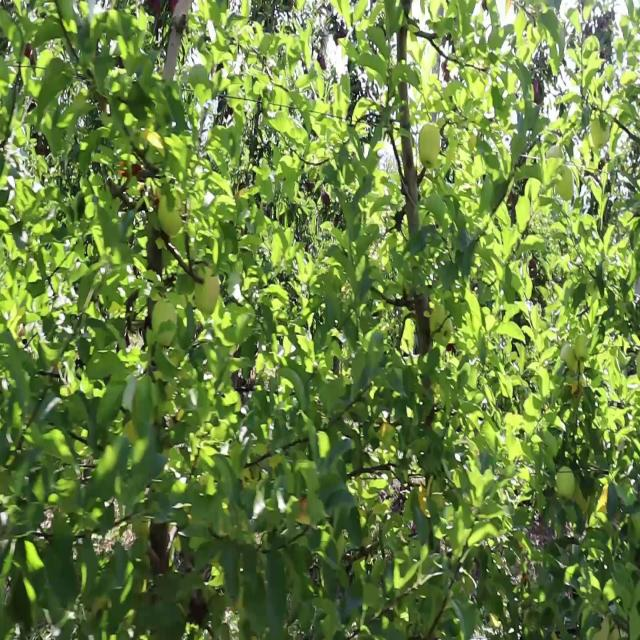apple: (152, 298, 178, 347), (158, 192, 185, 236), (195, 267, 219, 316), (418, 122, 440, 166), (429, 308, 452, 347), (555, 164, 574, 201), (556, 467, 576, 502), (589, 120, 609, 148), (560, 342, 577, 372), (575, 333, 589, 362)
